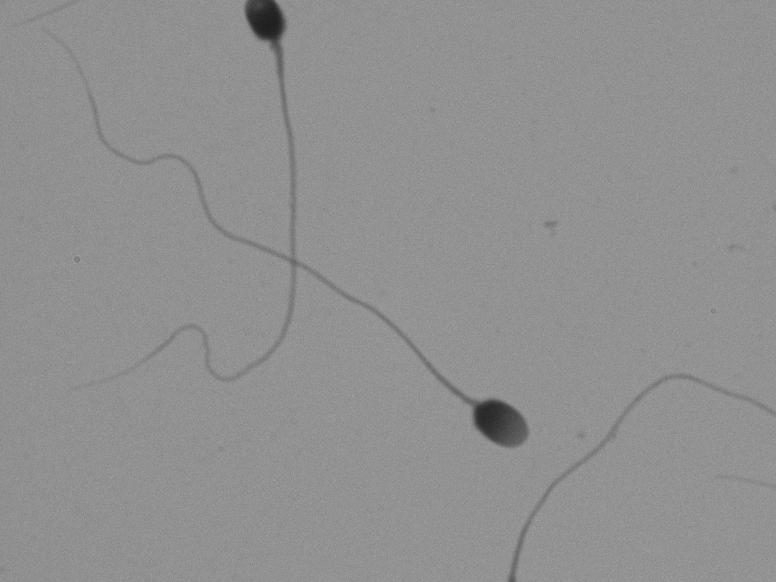Normal: (63, 85, 536, 479)
